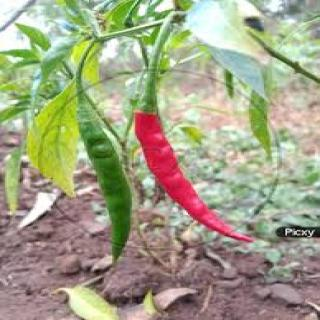Cabai Hijau: (76, 49, 132, 266)
Cabai Merah: (137, 113, 251, 243)
